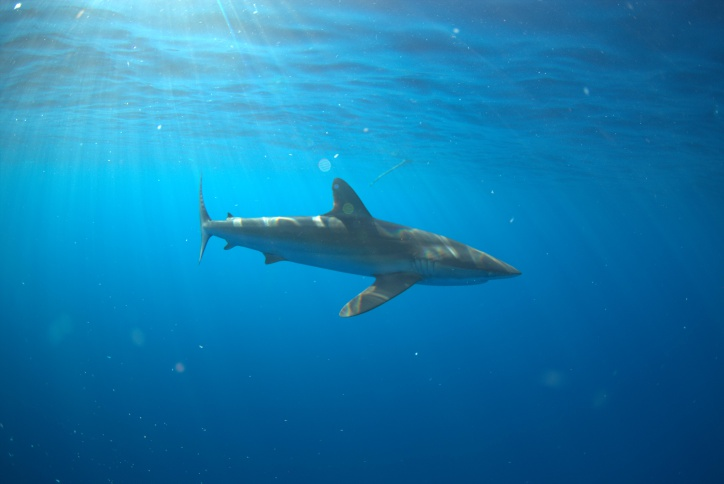Sedoso: (173, 156, 537, 323)
